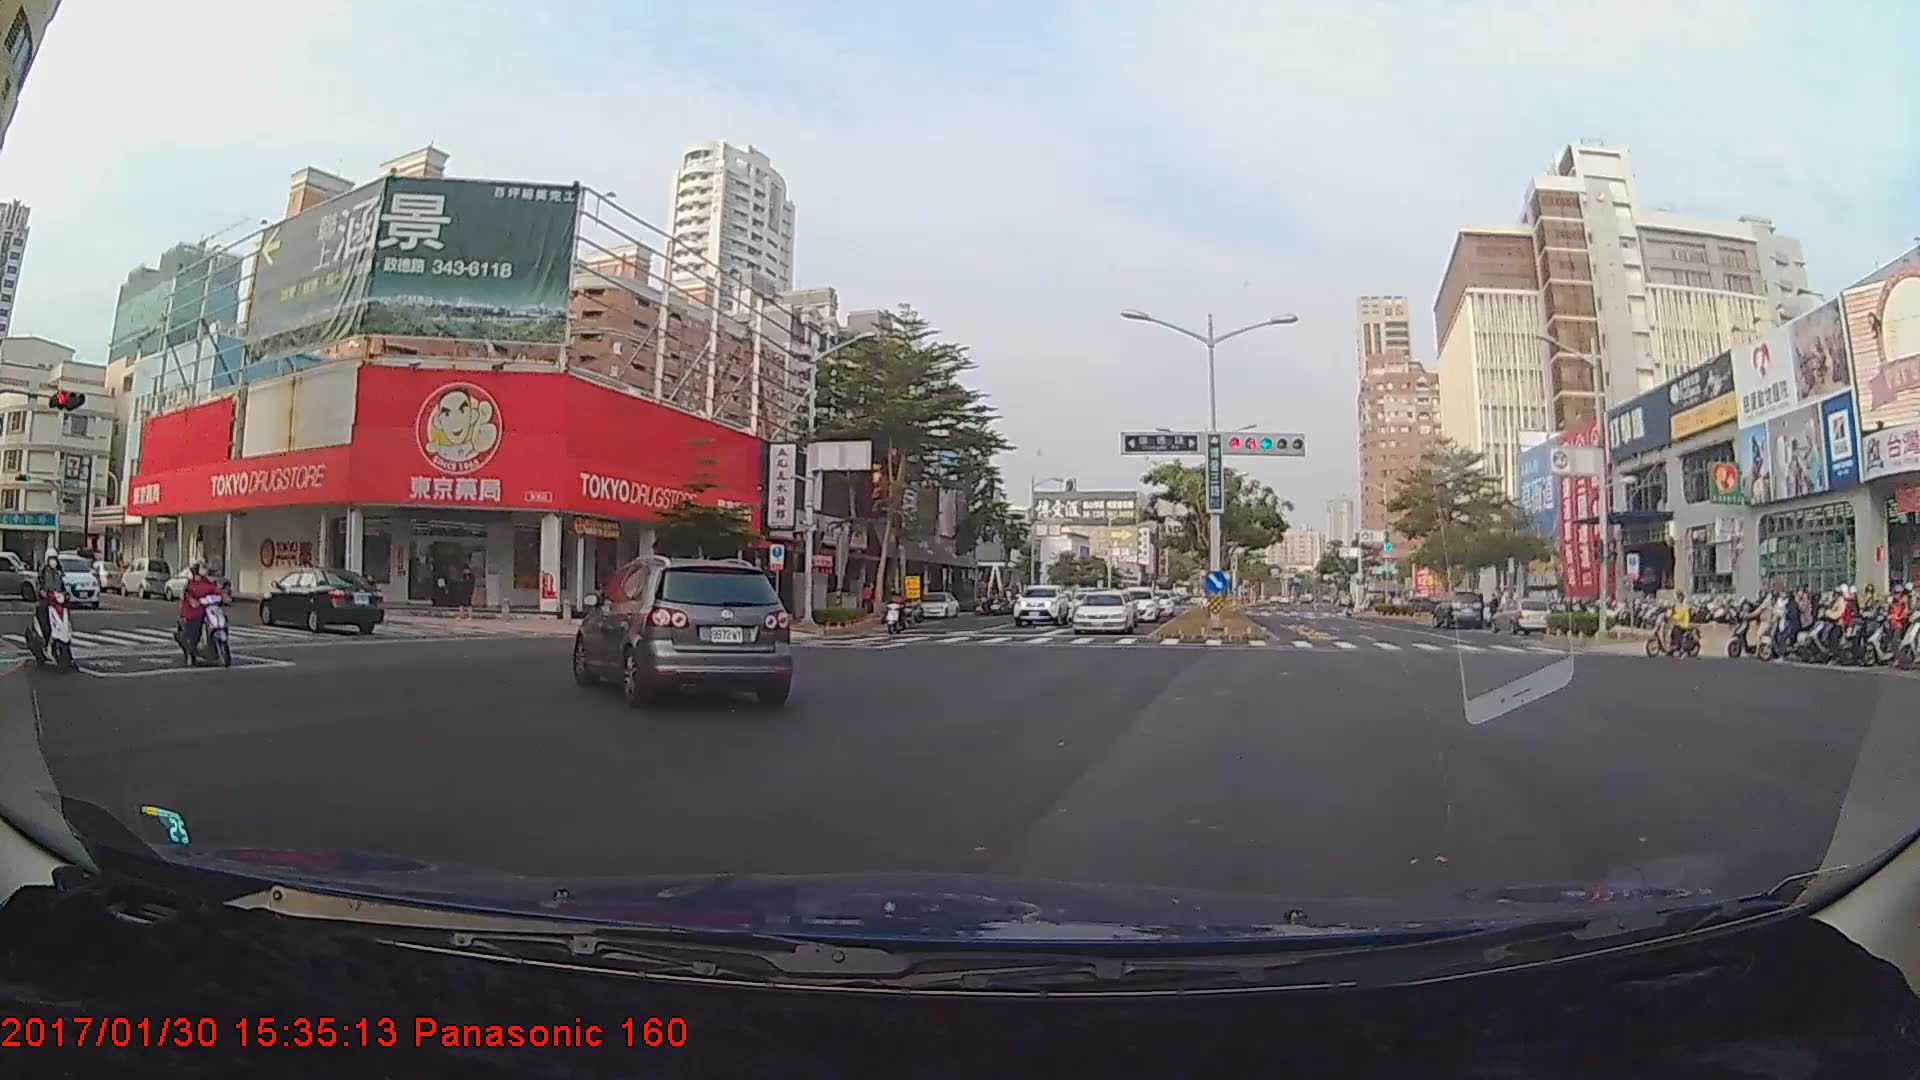rider: (168, 560, 233, 674), (20, 555, 81, 674), (1787, 586, 1858, 664), (1724, 599, 1801, 662), (1642, 585, 1702, 658), (881, 585, 905, 637)
vehicle: (578, 554, 790, 706), (262, 567, 384, 636), (39, 554, 100, 608), (1071, 590, 1135, 634), (1012, 582, 1069, 626), (1431, 590, 1484, 627), (1112, 585, 1158, 621), (915, 591, 958, 619)
